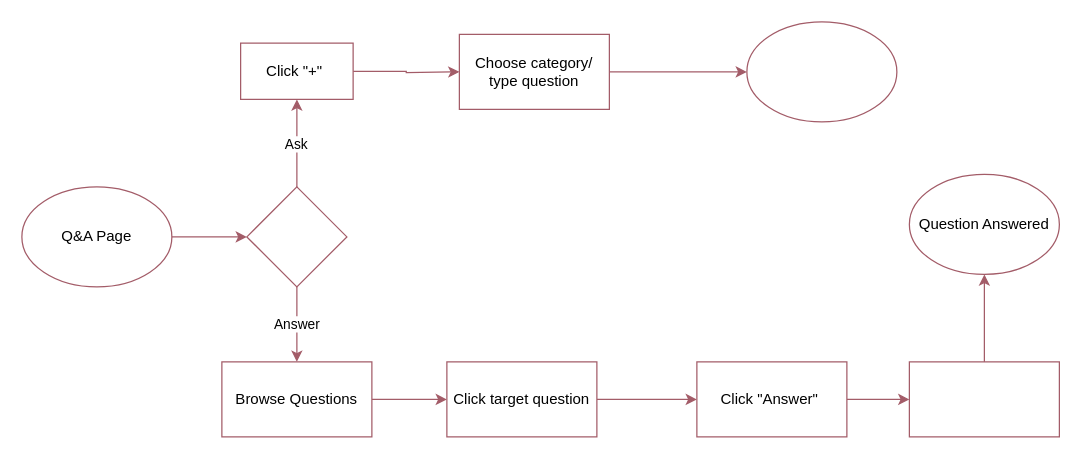
This 1081x459 diagram has some shape labels left out. Each missing label, with the centre of its shape:
"Ask or answer ?" belongs at (296,236).
"Question Posted" belongs at (821,71).
"Type answer" belongs at (983,399).
